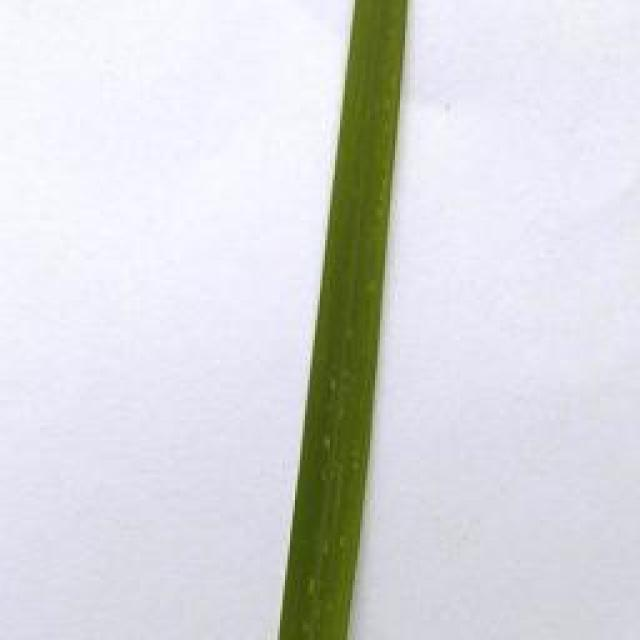Healthy-Plant: (278, 0, 412, 640)
